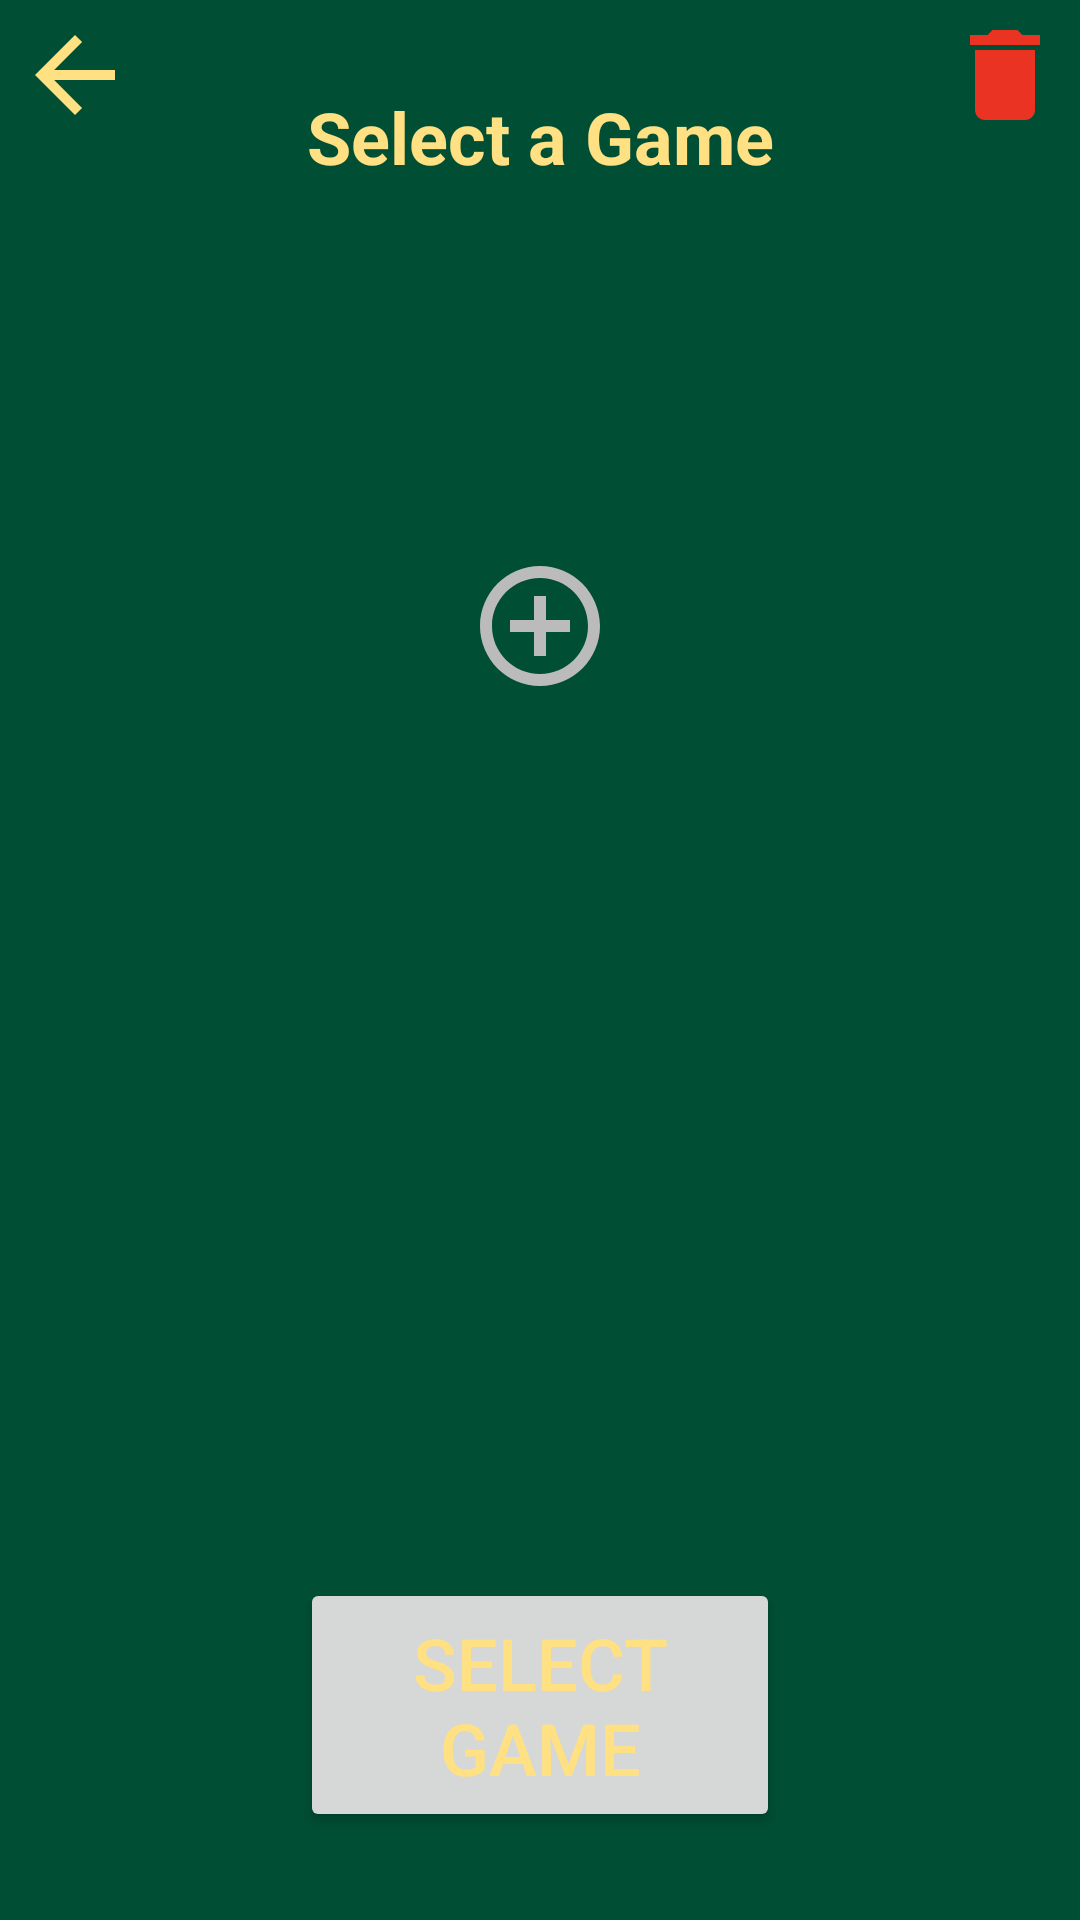

Icons on this 1080*1920 Android screen, each with its box as box(x1, y1, x2, y2):
add circle: box(480, 566, 600, 686)
arrow back: box(35, 35, 115, 115)
delete: box(970, 30, 1040, 120)
